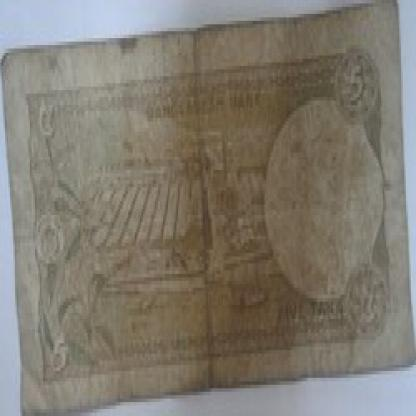Five Taka: (352, 267, 382, 343), (340, 48, 370, 122), (27, 94, 65, 152), (43, 326, 78, 388)
